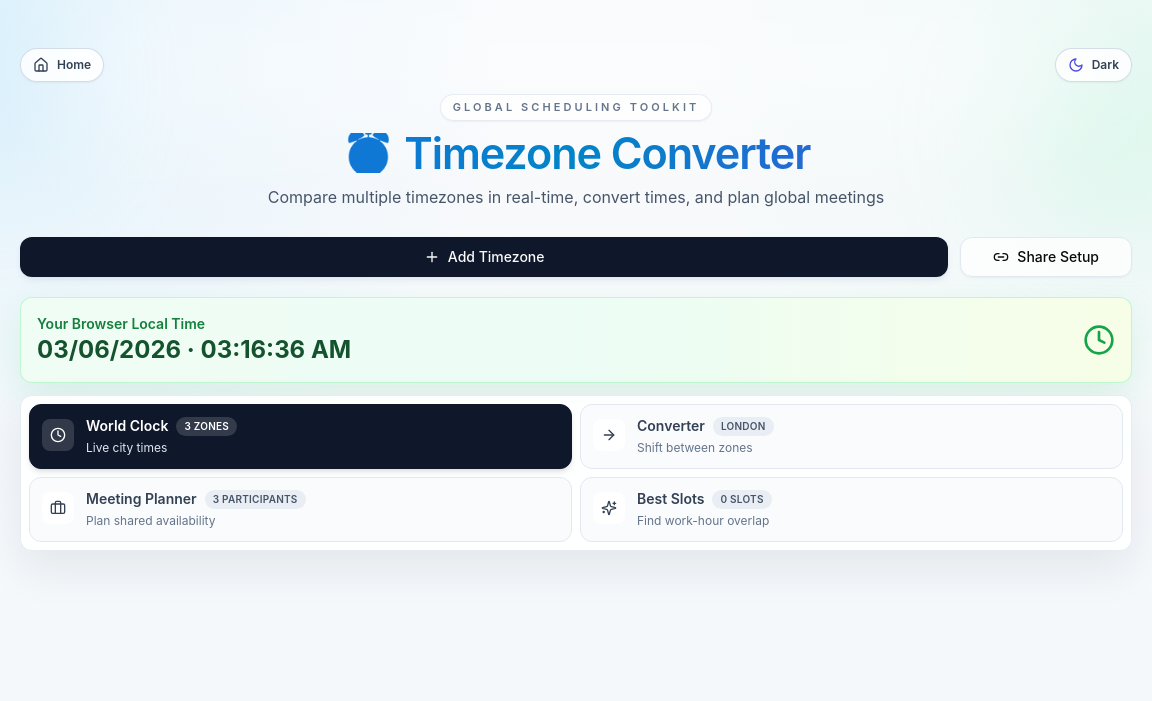
TimezoneConverter Component - Hardcoded Data Version › opens meeting planner and renders participant rows
Click the tab "Meeting Planner 3 participants Plan shared availability".
click(300, 509)  # box left=29, top=476, right=572, bottom=542
(page scrolled)
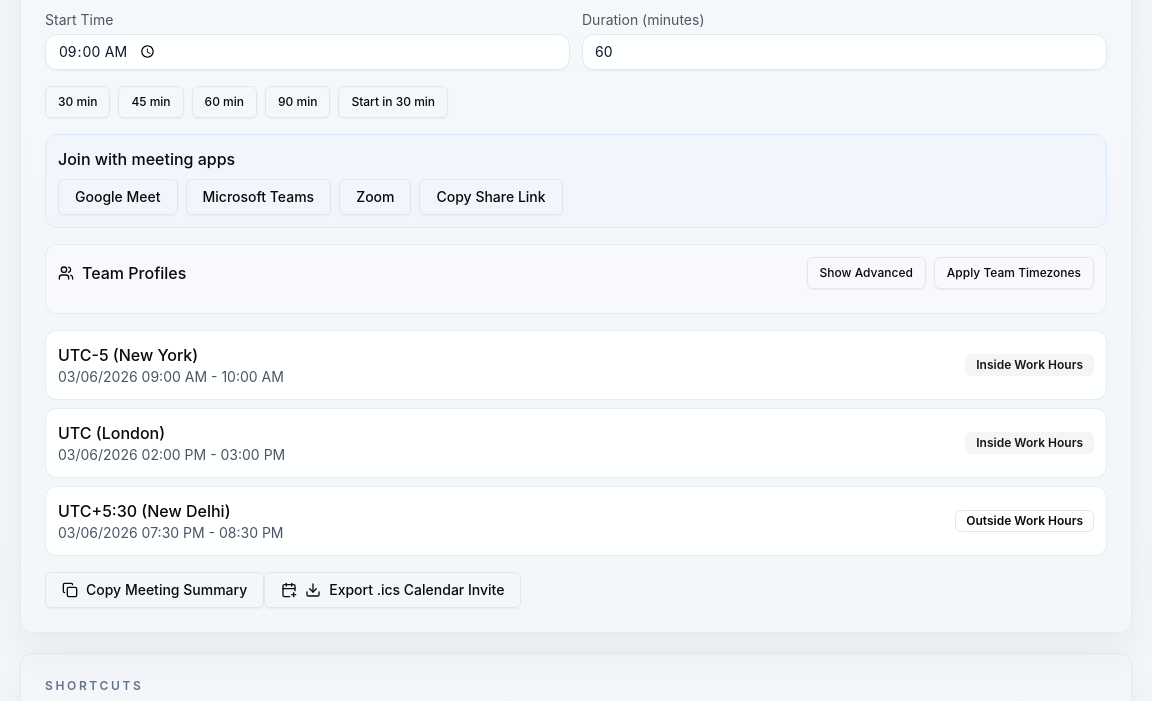
Now the button "Copy Meeting Summary" is shown, box left=45, top=572, right=264, bottom=608
Now the text "Inside Work Hours" in the row of "03/06/2026 09:00 AM - 10:00 AM" is shown, box left=976, top=356, right=1083, bottom=372
